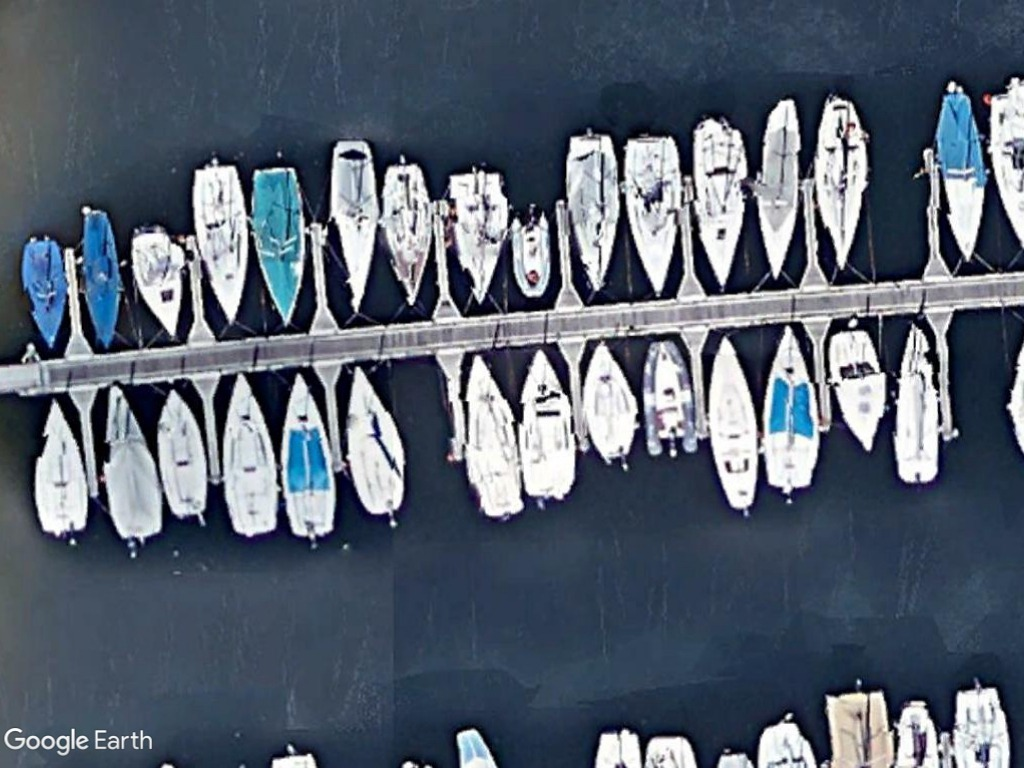boat: (809, 88, 873, 277), (687, 112, 752, 293), (94, 381, 165, 544), (755, 324, 820, 497), (185, 160, 251, 330), (509, 344, 579, 504), (271, 373, 338, 540), (562, 127, 627, 298), (215, 371, 280, 542), (617, 130, 683, 298), (460, 351, 526, 519), (243, 161, 308, 330), (933, 75, 989, 271), (340, 361, 410, 517), (443, 167, 519, 310), (747, 90, 802, 286), (702, 331, 760, 516), (321, 135, 377, 320), (886, 321, 942, 486), (28, 396, 90, 540), (147, 386, 210, 527), (378, 157, 434, 311), (828, 326, 888, 459), (634, 333, 696, 457), (75, 198, 124, 353), (128, 221, 188, 343), (579, 341, 637, 467), (14, 233, 65, 351), (503, 208, 556, 304)
